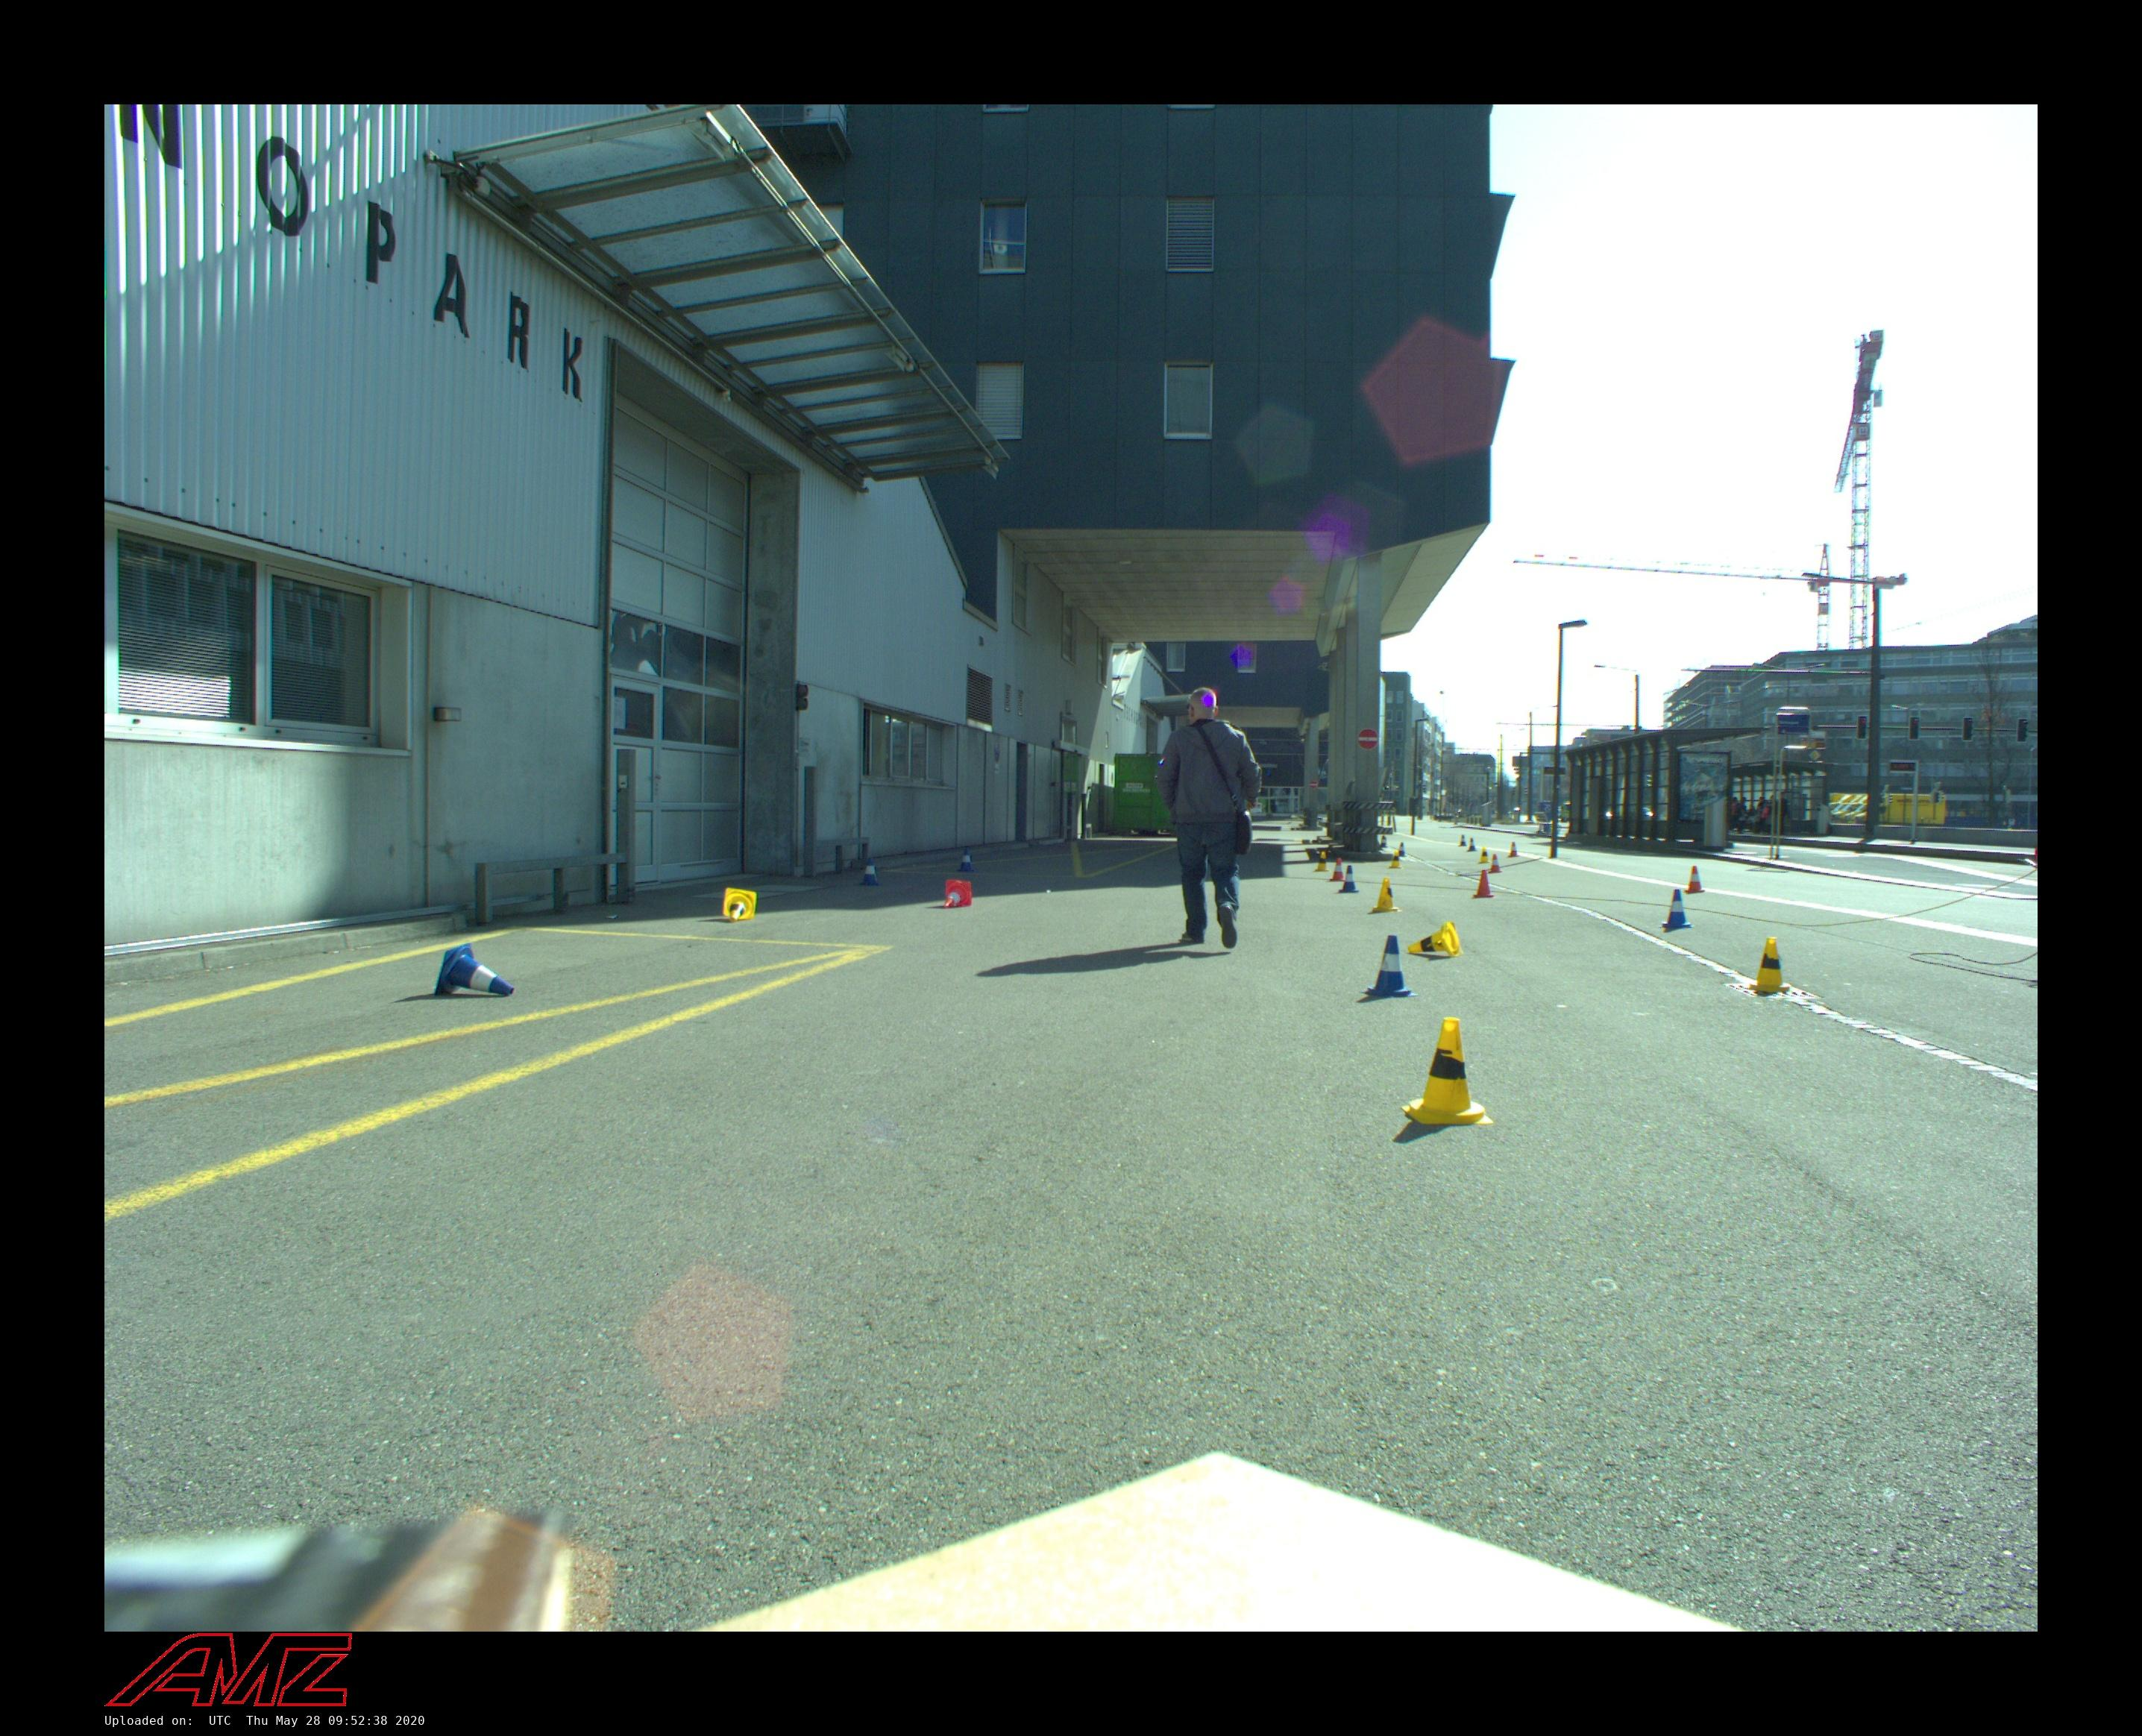blue_cone: (434, 943, 515, 996), (1360, 935, 1419, 996), (1659, 889, 1694, 928), (859, 858, 880, 887), (1338, 865, 1359, 893), (958, 849, 976, 872), (1467, 838, 1477, 852), (1398, 842, 1407, 857), (1381, 837, 1389, 848), (1459, 835, 1467, 846)
orange_cone: (943, 879, 972, 908), (1472, 870, 1495, 898), (1684, 866, 1706, 893), (1330, 858, 1345, 881), (1488, 855, 1502, 872), (1508, 842, 1519, 857)
yellow_cone: (1401, 1017, 1493, 1125), (1747, 937, 1793, 992), (1408, 922, 1464, 957), (723, 887, 757, 922), (1370, 878, 1402, 912), (1315, 852, 1328, 872), (1389, 850, 1402, 869), (1478, 846, 1490, 864)
